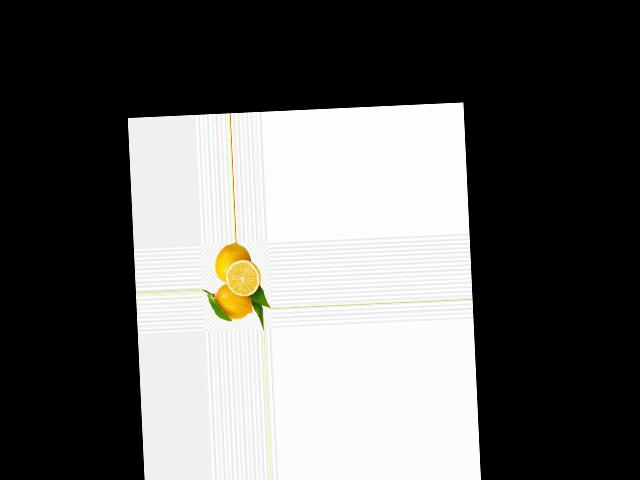lemon: (214, 241, 254, 281)
